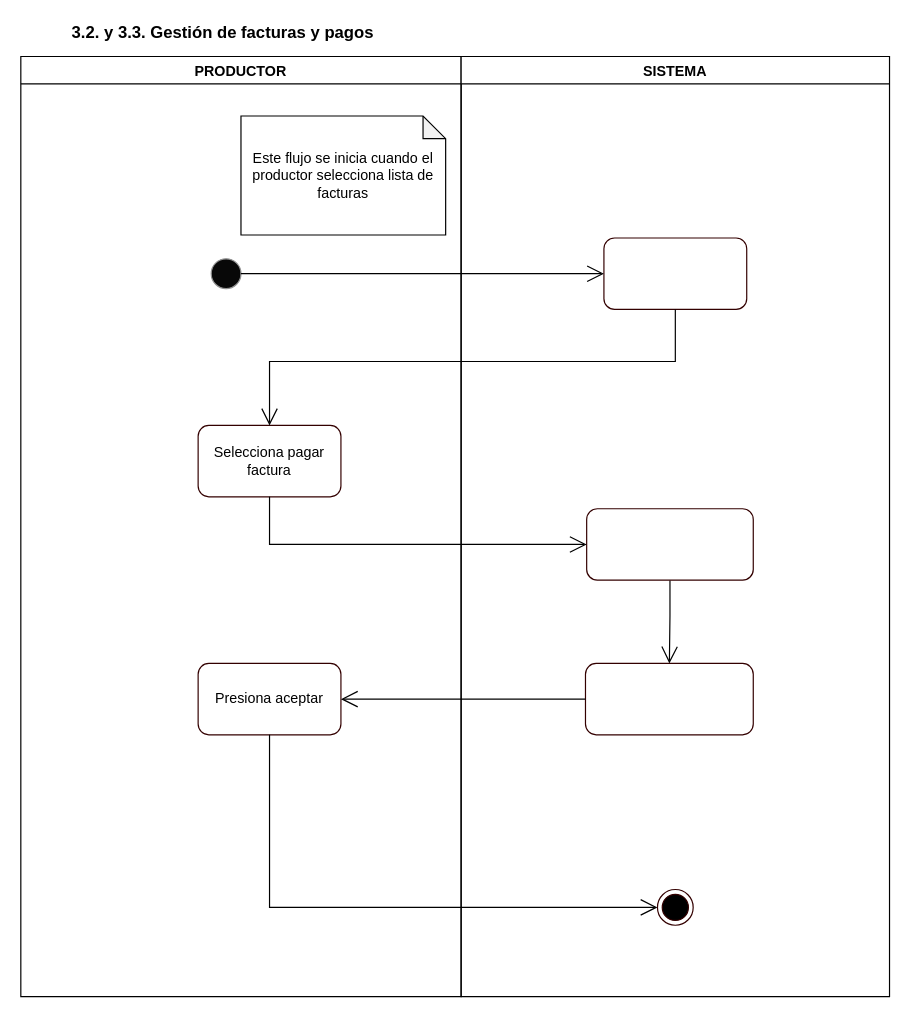
Some shapes in this 910 by 1017 pixel diagram are drawn without their labels. The centre of each missing label's shape, as x and y in pixels:
Muestra interfaz "gestión de facturas": the point at 675,273
Muestra mensaje de pago realizado con éxito: the point at 668,698
Registra el pago correspondiente: the point at 669,544
